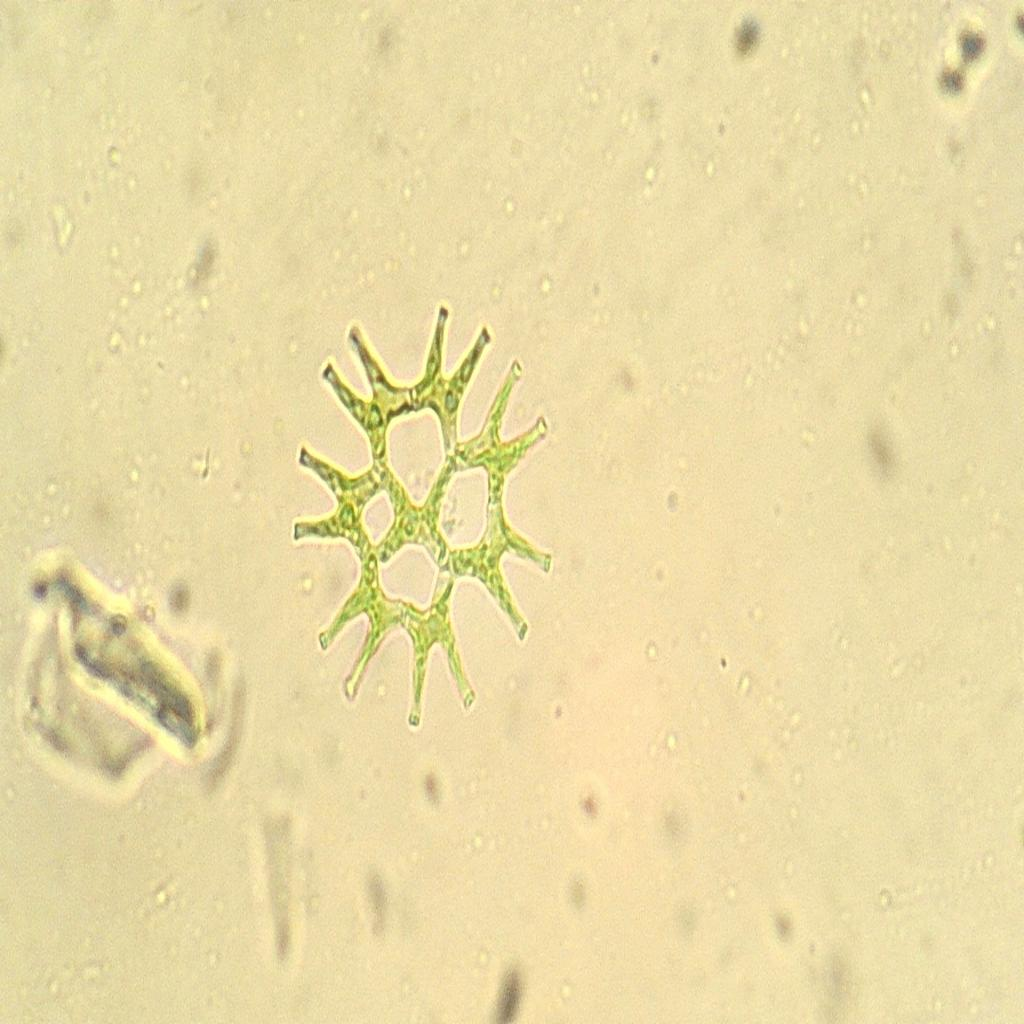Pediastrum_75T: (279, 262, 569, 756)
